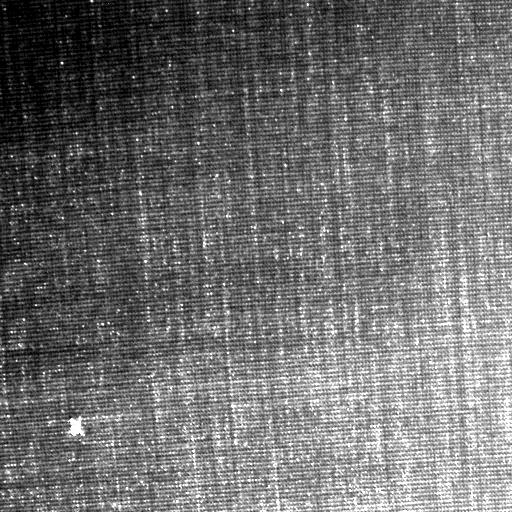fabric_hole: (57, 411, 95, 447)
